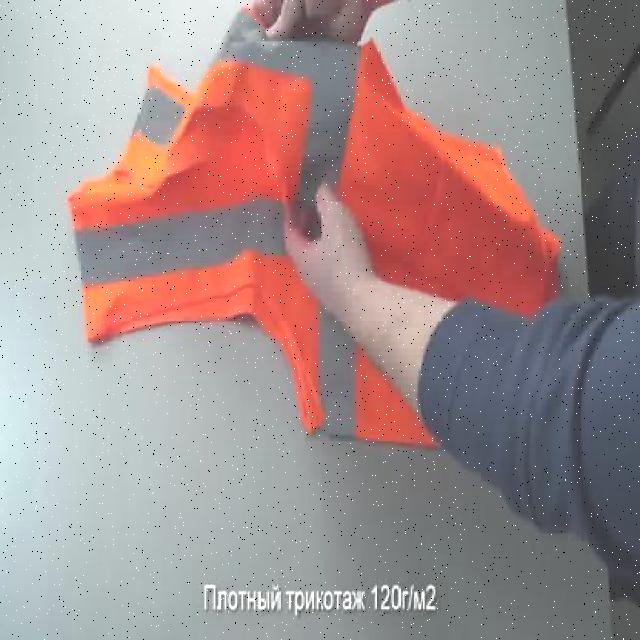Mask: (63, 4, 566, 452)
